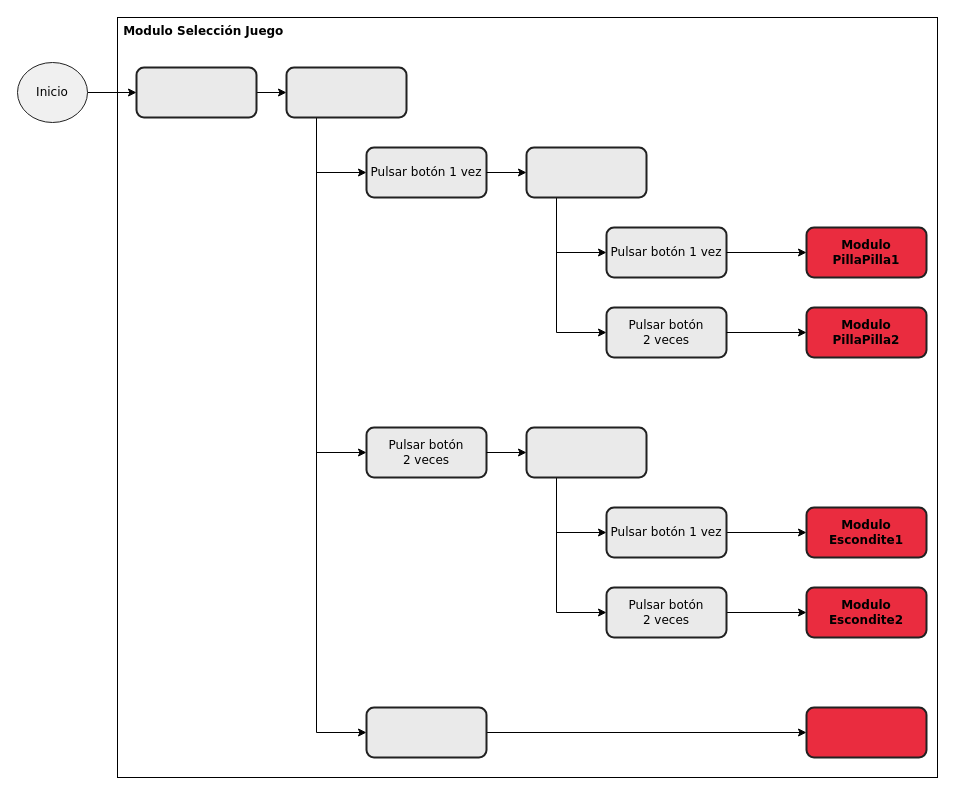
This 955x795 diagram has some shape labels left out. Here are the shapes that lost their labels. From the top down, the centre of each, then its label:
the point at 196,92: Mantener botón pulsado 3s
the point at 346,92: Audio información selección juego
the point at 586,172: Audio información opciones juego 1
the point at 586,452: Audio información opciones juego 2
the point at 426,732: Pulsar botón 3 veces
the point at 866,732: Modulo PicaPared
